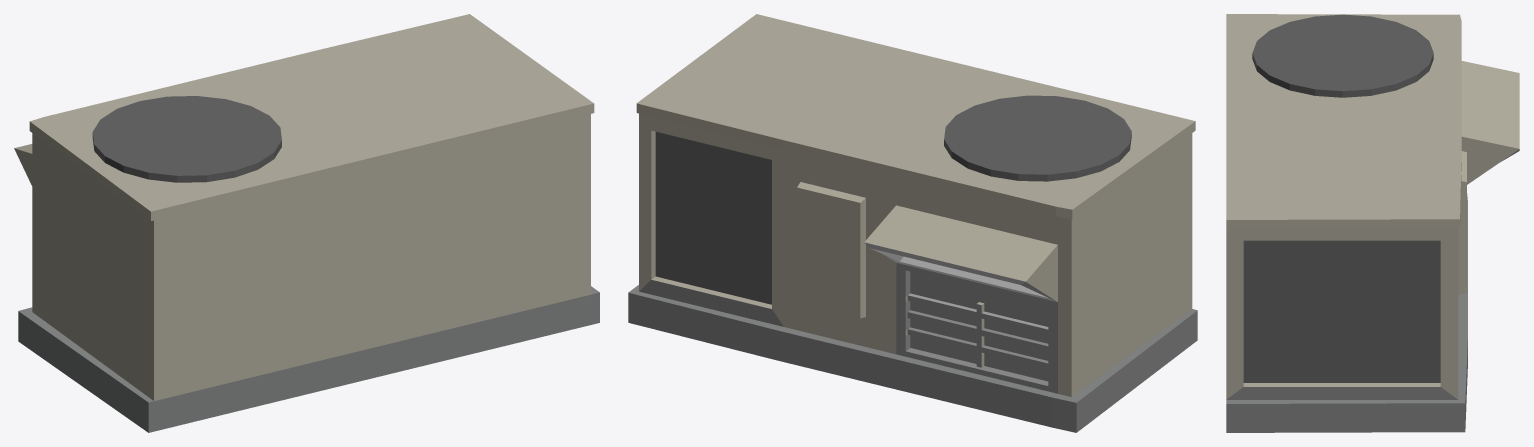
Rendered from External_extractor_vent_I'mSoSorry.fbx.
3 renders of one model, left to right at view 1: azimuth 30°, elevation 25°; view 2: azimuth 150°, elevation 25°; view 3: azimuth 270°, elevation 25°, orthographic. The views are drawn at different scales.
Parts seen in each view (by area): view 1: pCylinder8; view 2: pCylinder8; view 3: pCylinder8.
Boxes of the visible parts, box(x1,y1,x2,y2) form: pCylinder8: box(14, 14, 599, 432); pCylinder8: box(628, 14, 1197, 432); pCylinder8: box(1226, 14, 1519, 432).
Bounding box in the file's own units: 8.12 × 3.88 × 4.76.
